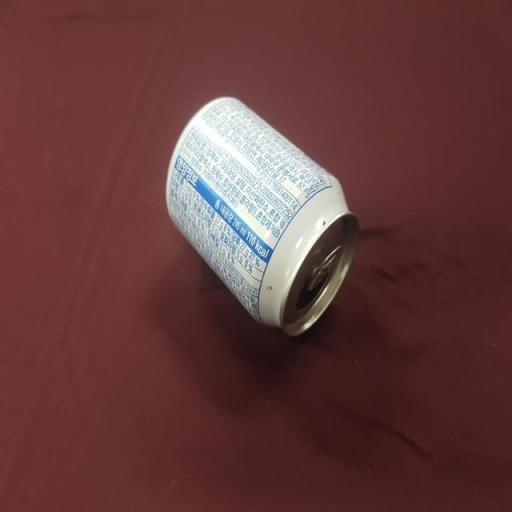metal: (150, 79, 370, 360)
